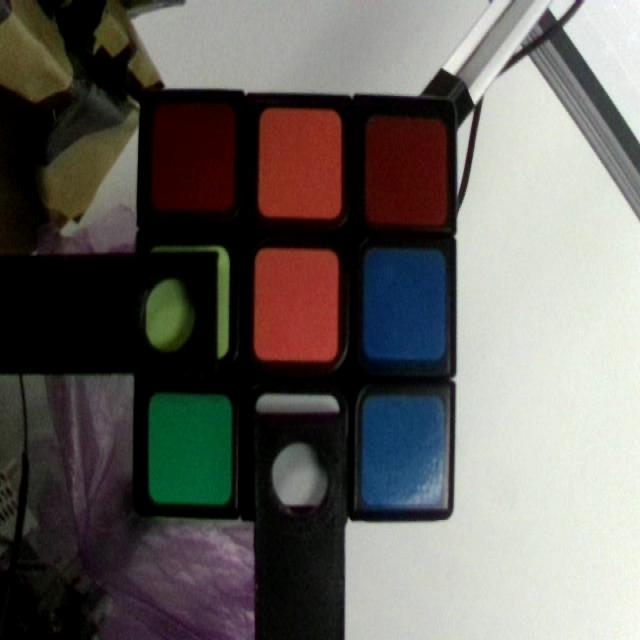b: (360, 397, 447, 508), (365, 250, 449, 362)
g: (152, 391, 232, 507)
o: (260, 106, 342, 218), (256, 249, 337, 359)
r: (152, 99, 235, 209), (367, 122, 448, 228)
w: (258, 397, 341, 510)
y: (149, 249, 226, 357)
